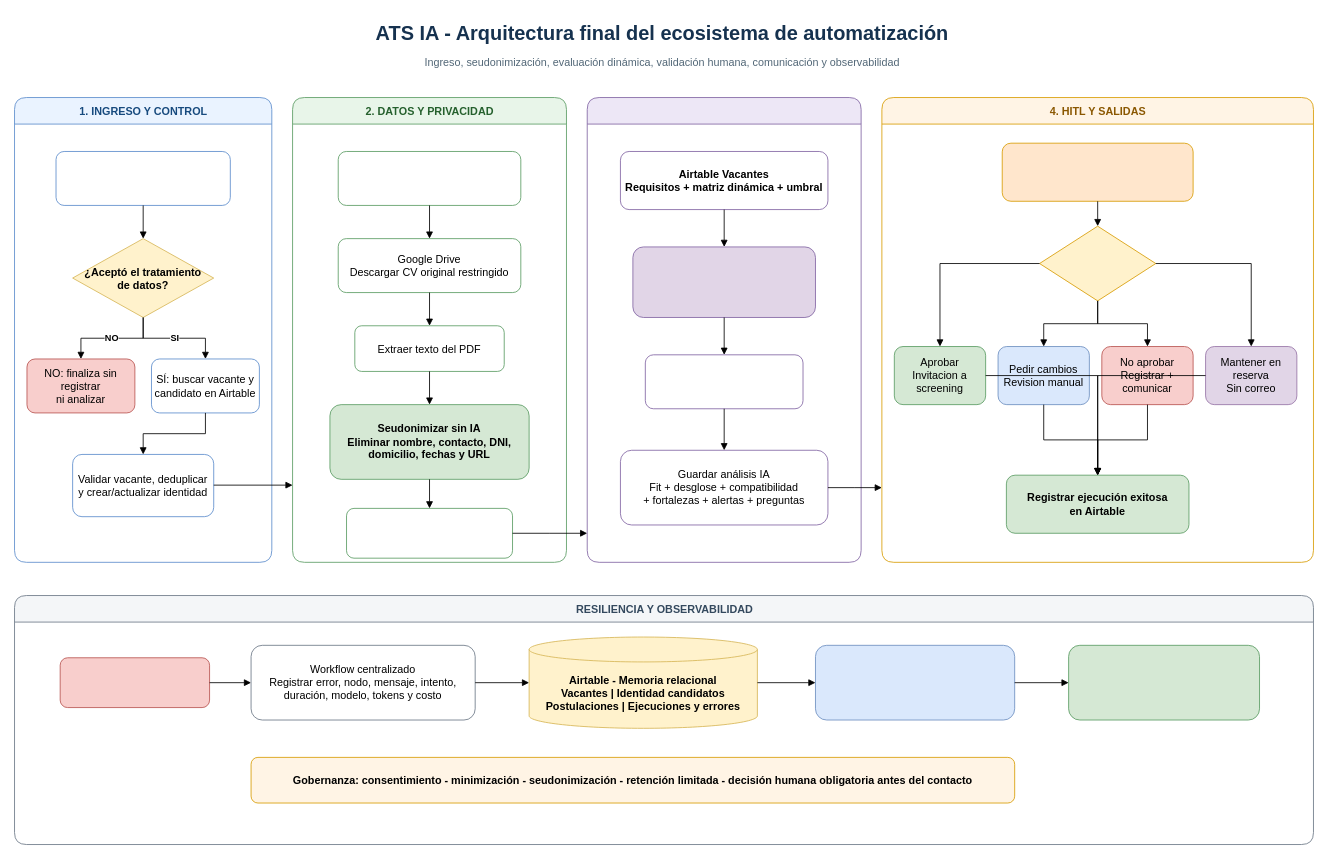
Some shapes in this 1328 by 859 pixel diagram are drawn without their labels. The shapes that lost their labels are listed below. From the top down, each one's box as (x1, y1, x2, y2) in pixels, then its label:
(55, 151, 230, 205): Google Forms / Sheets Nueva postulación
(337, 151, 521, 205): Crear postulación IDs y relaciones dinámicas
(1001, 142, 1193, 201): Gmail: solicitar decisión HITL El flujo espera respuesta humana
(632, 246, 815, 317): OpenAI gpt-4.1-mini Prompt estructurado dinámico Máx. tokens: 3000
(1039, 225, 1156, 301): ¿Qué decidió RR. HH.?
(586, 97, 861, 562): 3. PROCESAMIENTO IA
(644, 354, 803, 409): Structured Output Parser JSON validado
(346, 508, 513, 558): Guardar texto seudonimizado en Postulaciones
(59, 657, 210, 708): Error Trigger global
(815, 644, 1015, 720): Interfaces Airtable Dashboard de control + Gestión diaria
(1068, 644, 1260, 720): Shared View pública KPIs y tasa de error Sin datos personales
